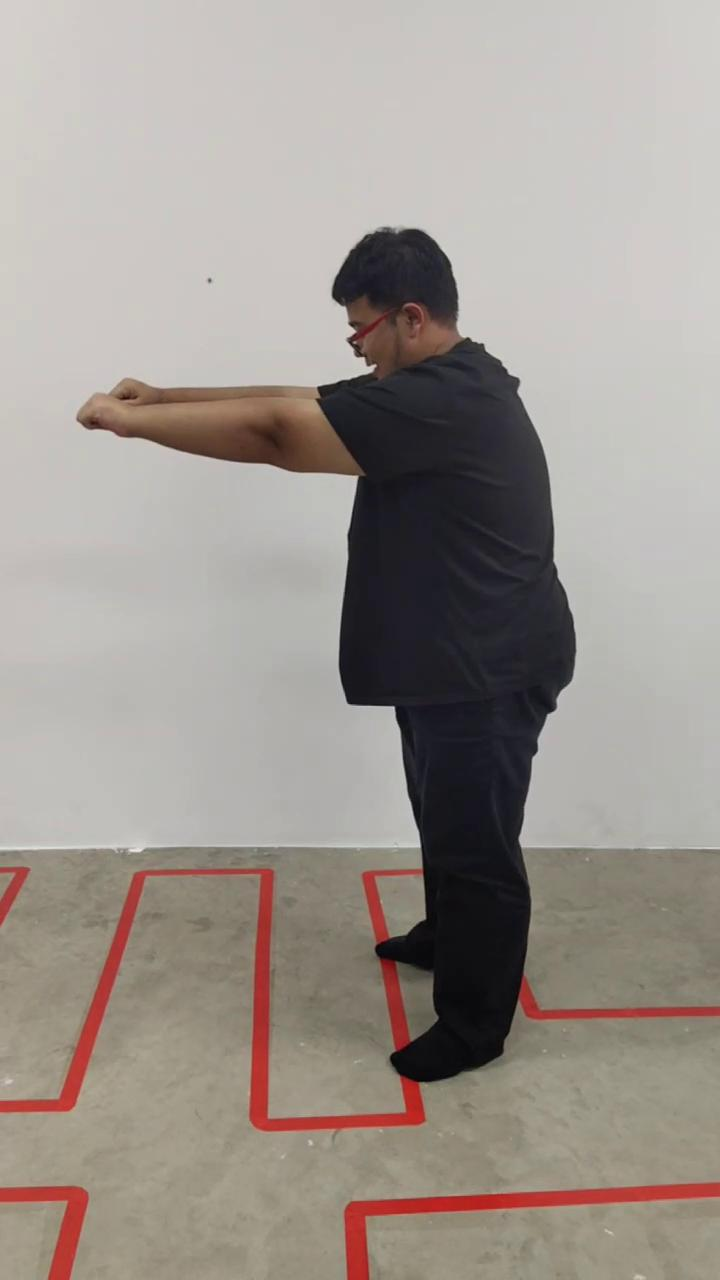squat up: (77, 227, 577, 1085)
